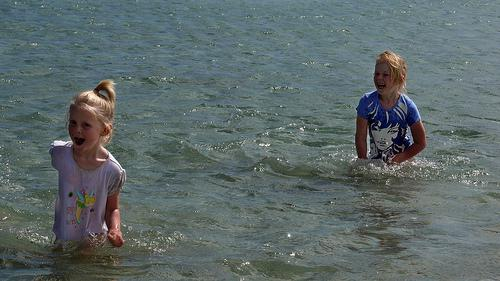swimmer: (44, 77, 125, 255), (354, 47, 427, 168)
